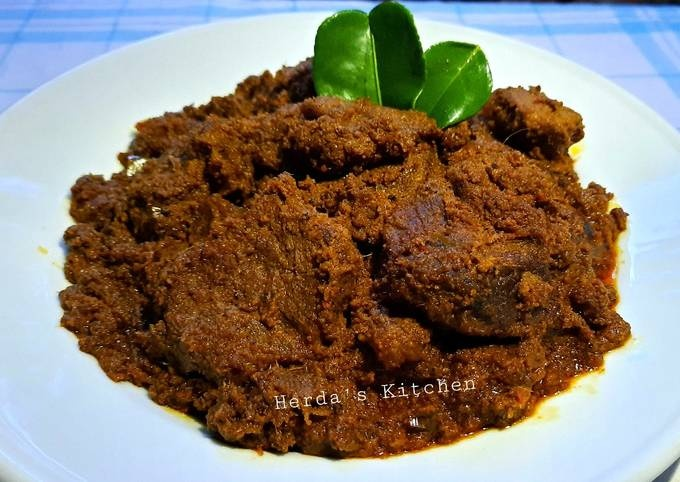rendang: (41, 120, 628, 434)
